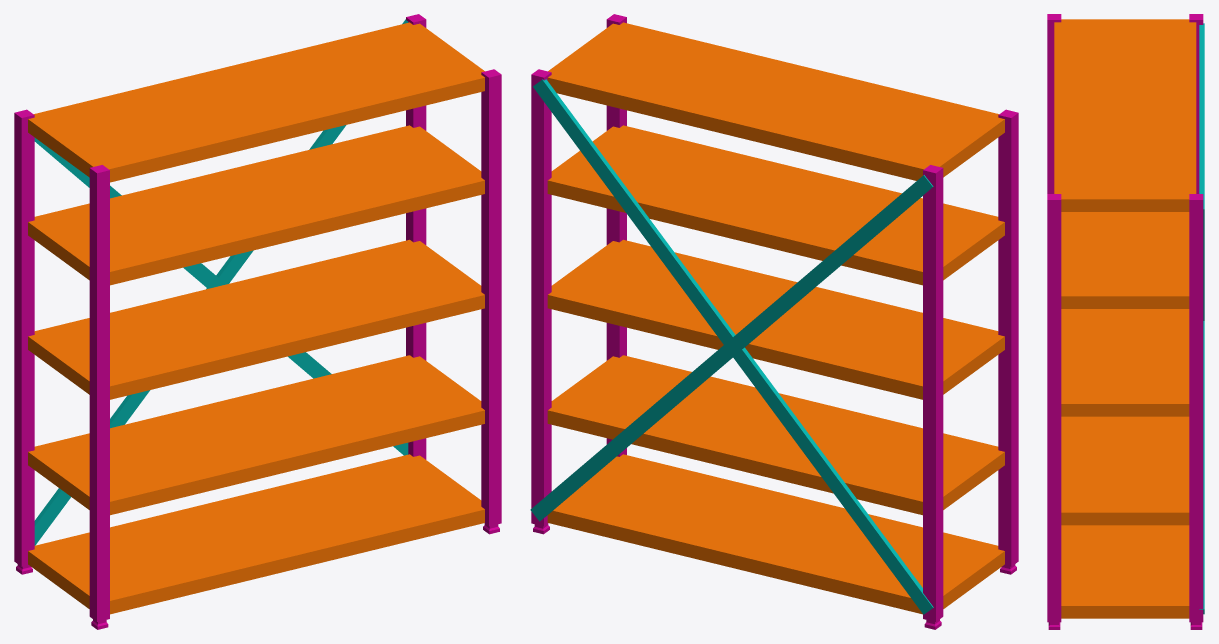
File: estanteria_1.fbx
The picture shows the model from 3 angles, left to right: view 1: azimuth 30°, elevation 25°; view 2: azimuth 150°, elevation 25°; view 3: azimuth 270°, elevation 25°; orthographic projection. The views are drawn at different scales.
Visible parts, largest first — view 1: Box010; view 2: Box010; view 3: Box010.
Boxes of the visible parts, x1,y1,x2,y2 form: Box010: (14,14,501,629); Box010: (530,14,1018,629); Box010: (1047,14,1204,629).
Size of the model in its own units: 62.02 by 66.93 by 22.14.
